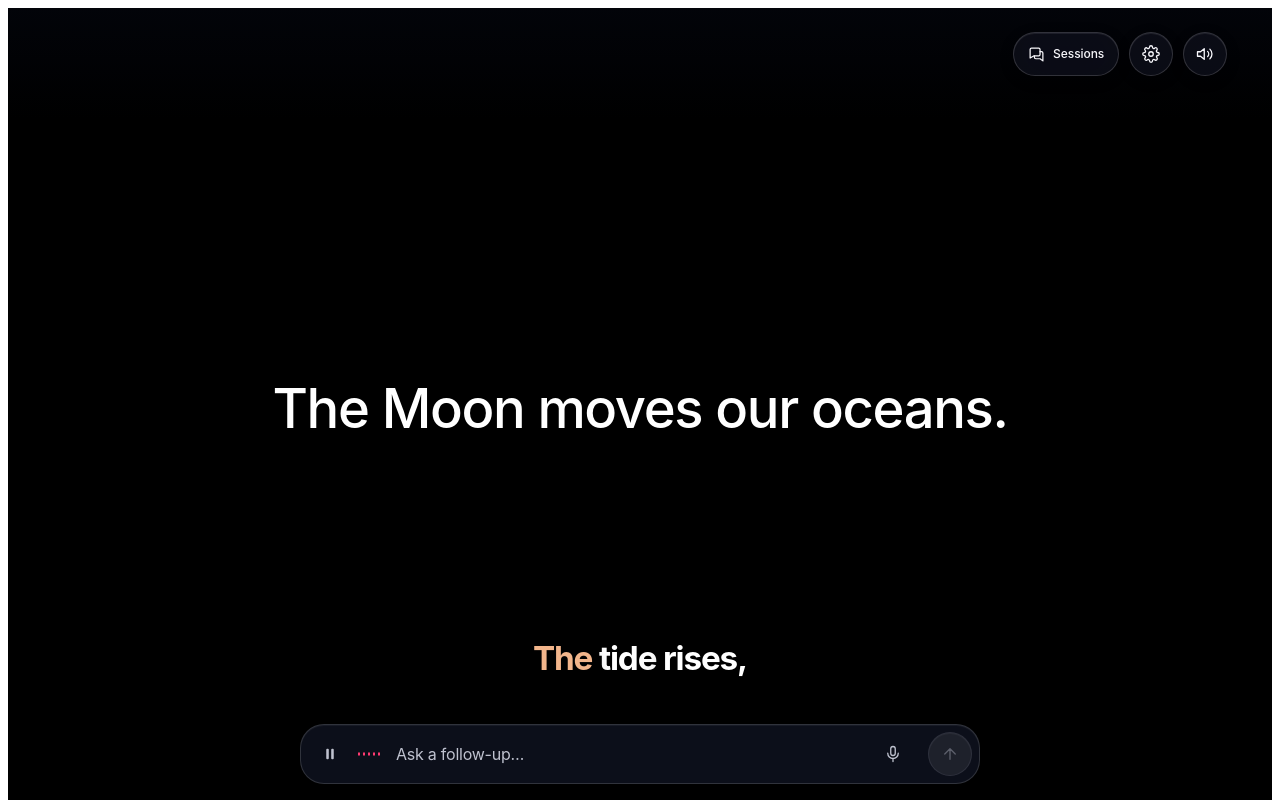
Test: still changes style when browser storage is unavailable
Click the button named "Settings": (1151,54) 1129,32 -> 1173,76
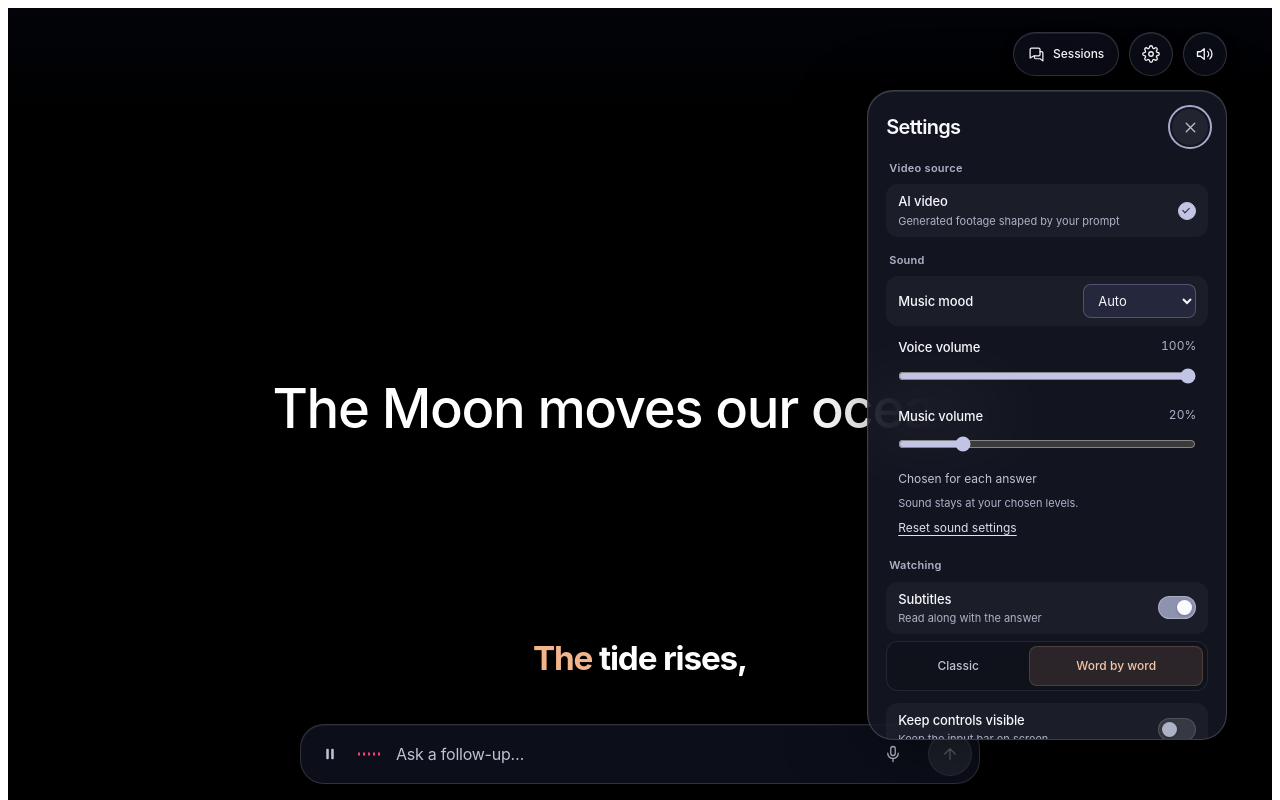
expect the radio button labelled "Word by word" is checked: met, box 1029,646 -> 1203,686
Click the radio button labelled "Classic": (958,665) 937,658 -> 979,673
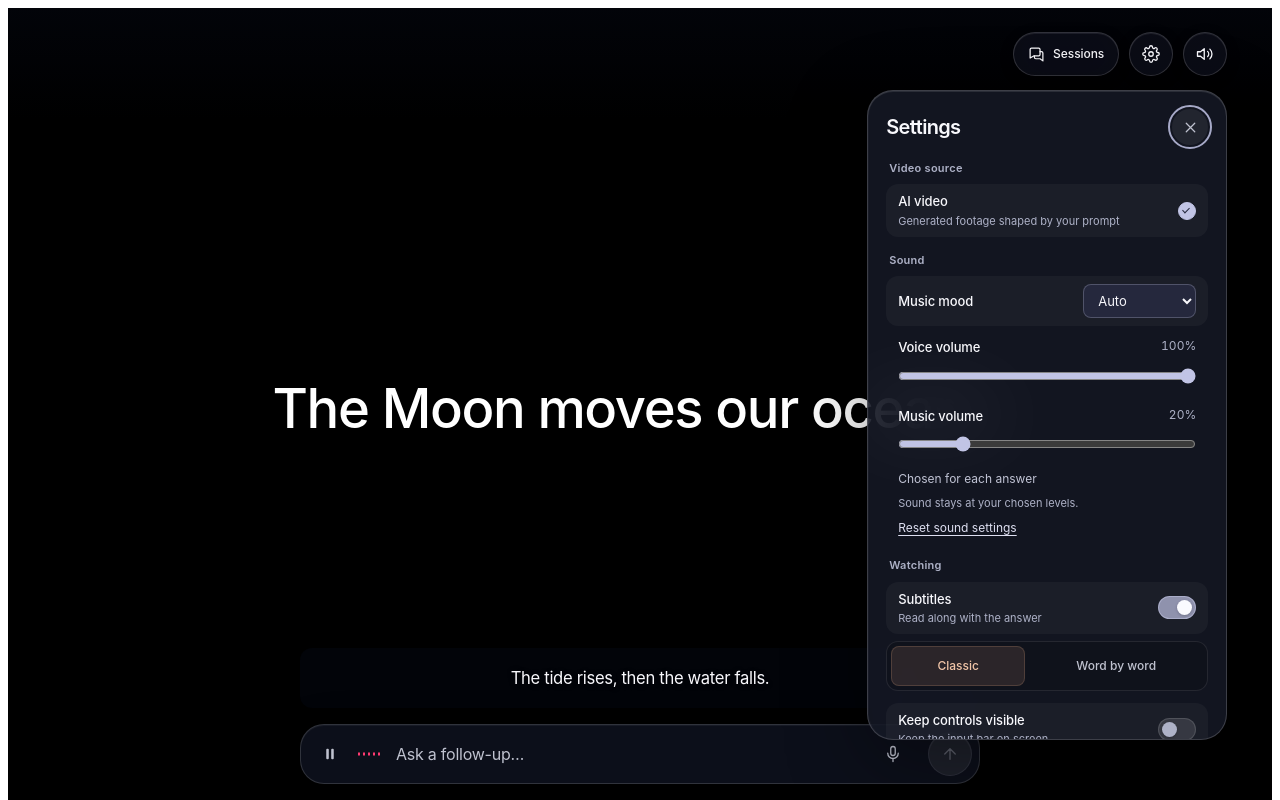
expect the element with class "word-captions" is gone: met
